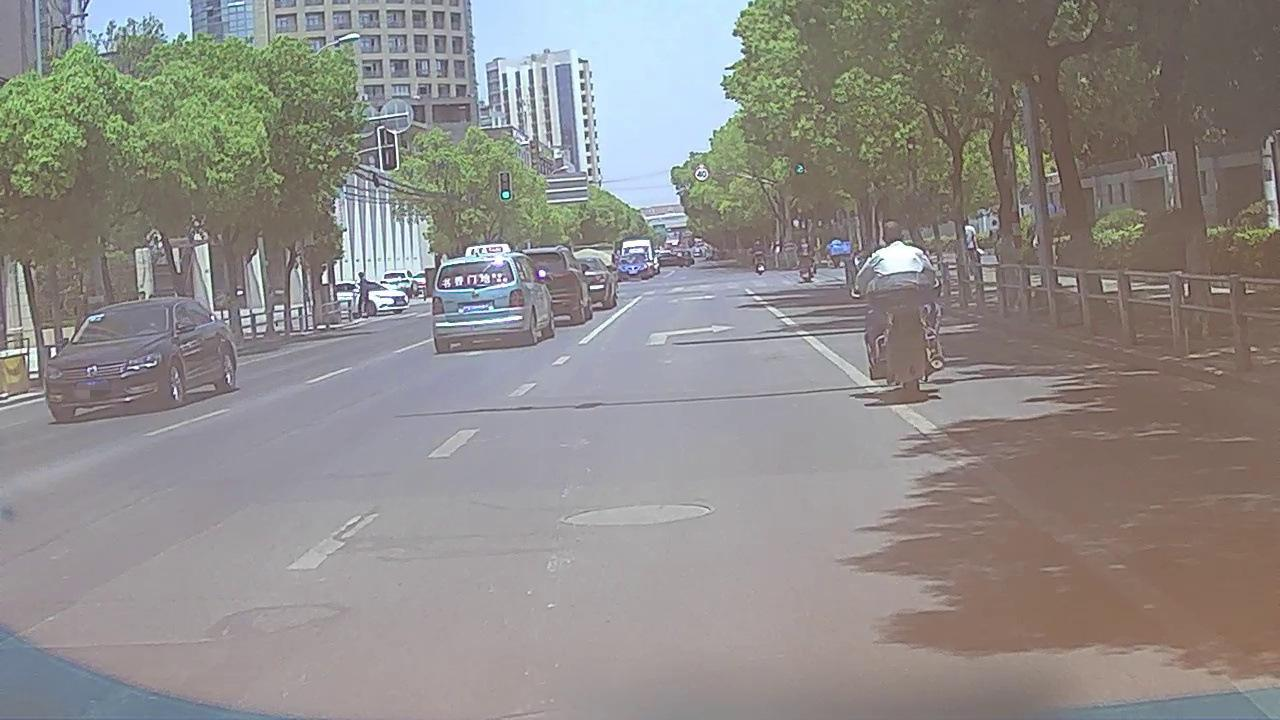traffic_light: (500, 173, 511, 200)
